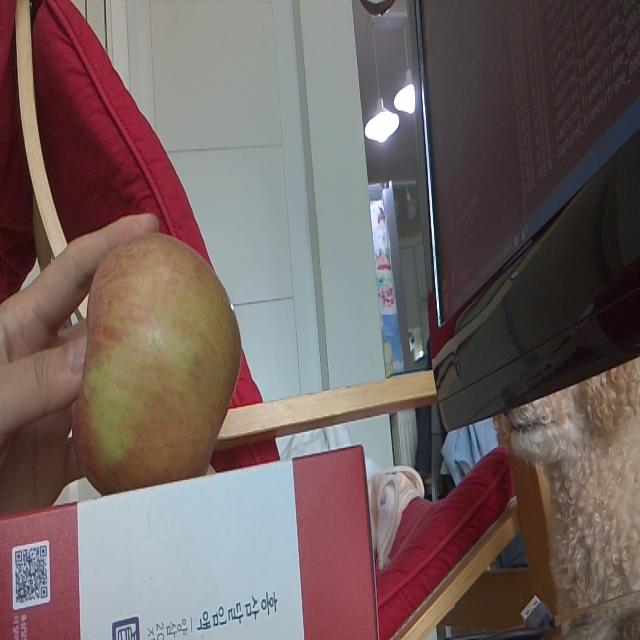apple: (72, 232, 240, 469)
